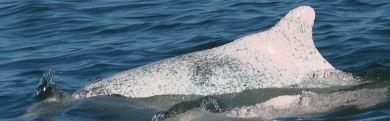fin: (41, 3, 380, 105)
